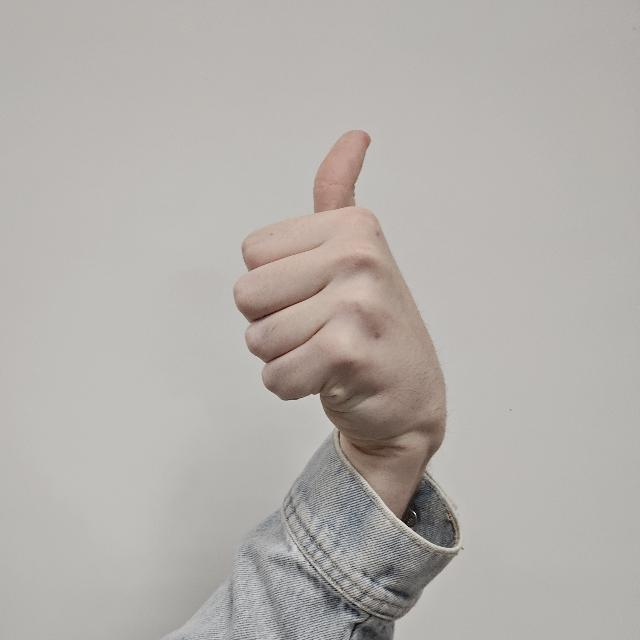Start: (234, 128, 406, 406)
